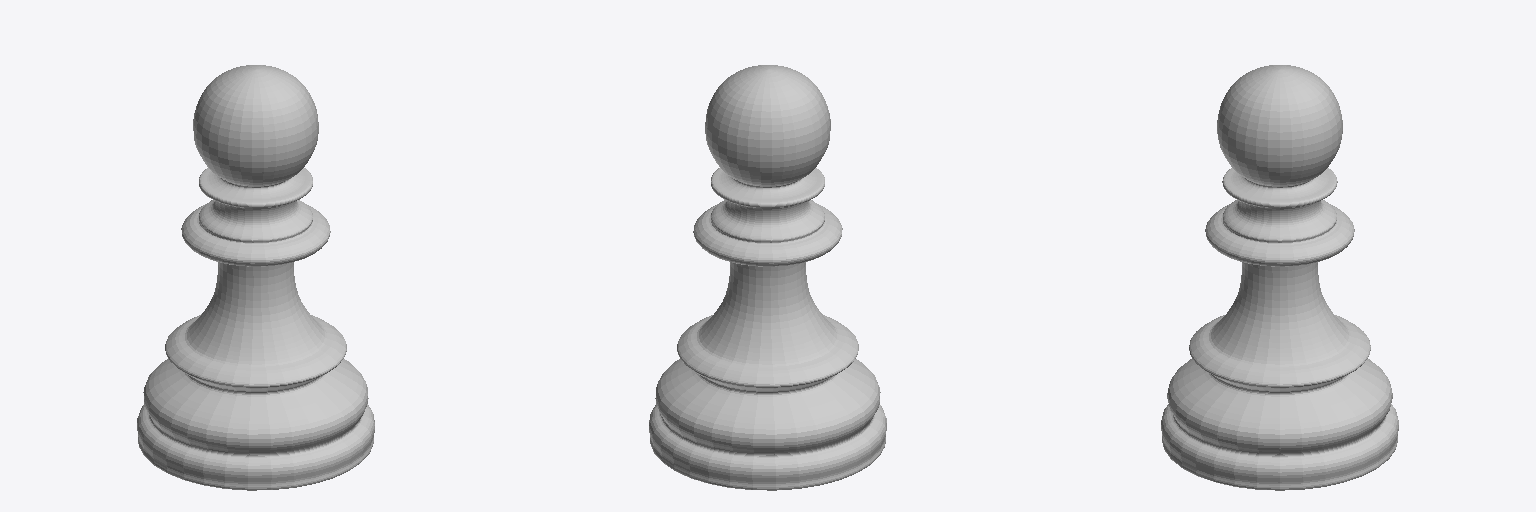
File: Pawn.obj
The picture shows the model from 3 angles: view 1: azimuth 30°, elevation 25°; view 2: azimuth 150°, elevation 25°; view 3: azimuth 270°, elevation 25°; orthographic projection.
Parts seen in each view (by area): view 1: Cube_Cube.001; view 2: Cube_Cube.001; view 3: Cube_Cube.001.
Boxes of the visible parts, <box> form: Cube_Cube.001: <box>137,65,374,490</box>; Cube_Cube.001: <box>649,65,886,490</box>; Cube_Cube.001: <box>1161,65,1398,490</box>.
Bounding box in the file's own units: 3.48 × 6 × 3.48.